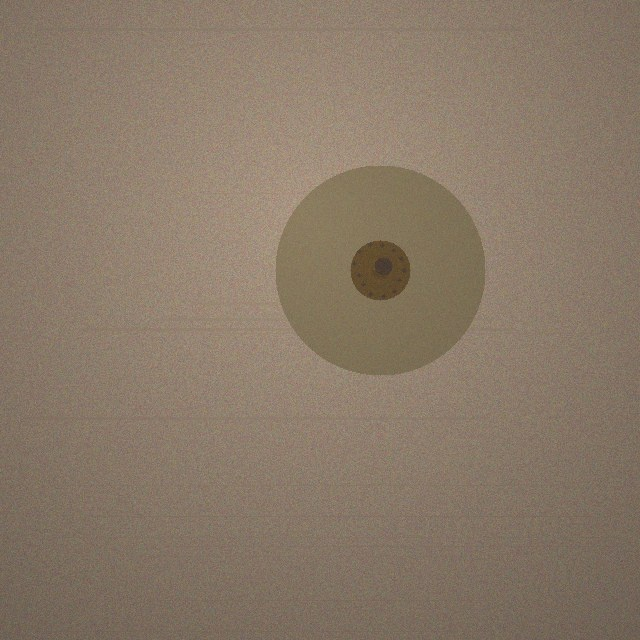cold_weld: (275, 165, 485, 375)
